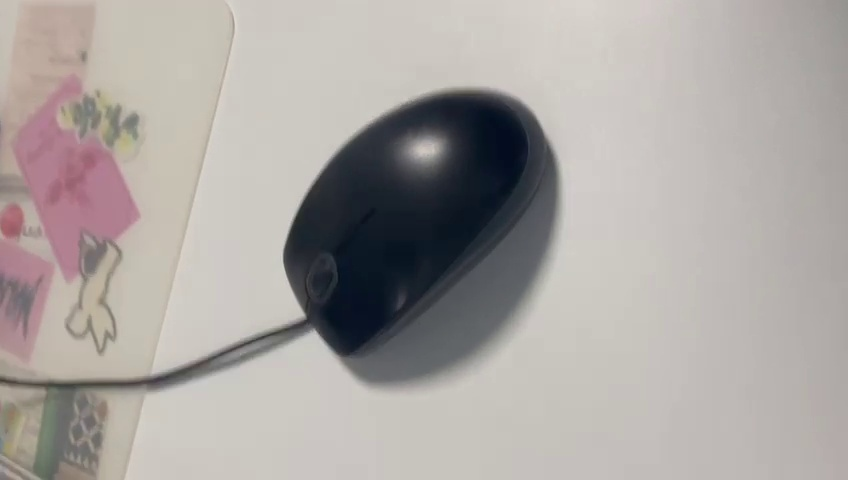objeto: (269, 92, 591, 378)
